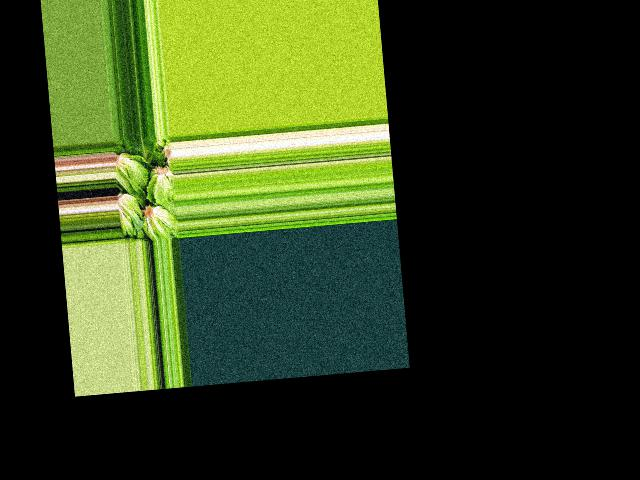lettuce: (132, 135, 158, 162)
